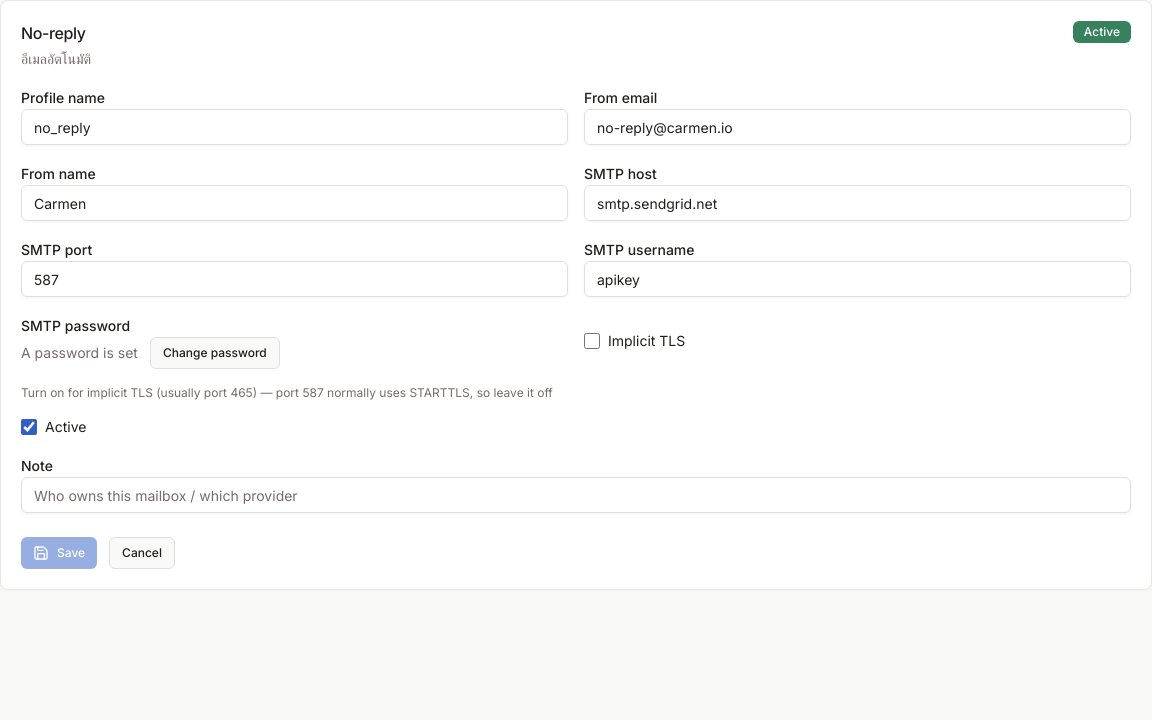
EmailSettingCard › blocks saving when the SMTP port is out of range
This screenshot has width=1152, height=720.
Replace the text in the field labelled "SMTP port" with "99999" at (294, 279), box left=21, top=261, right=568, bottom=297
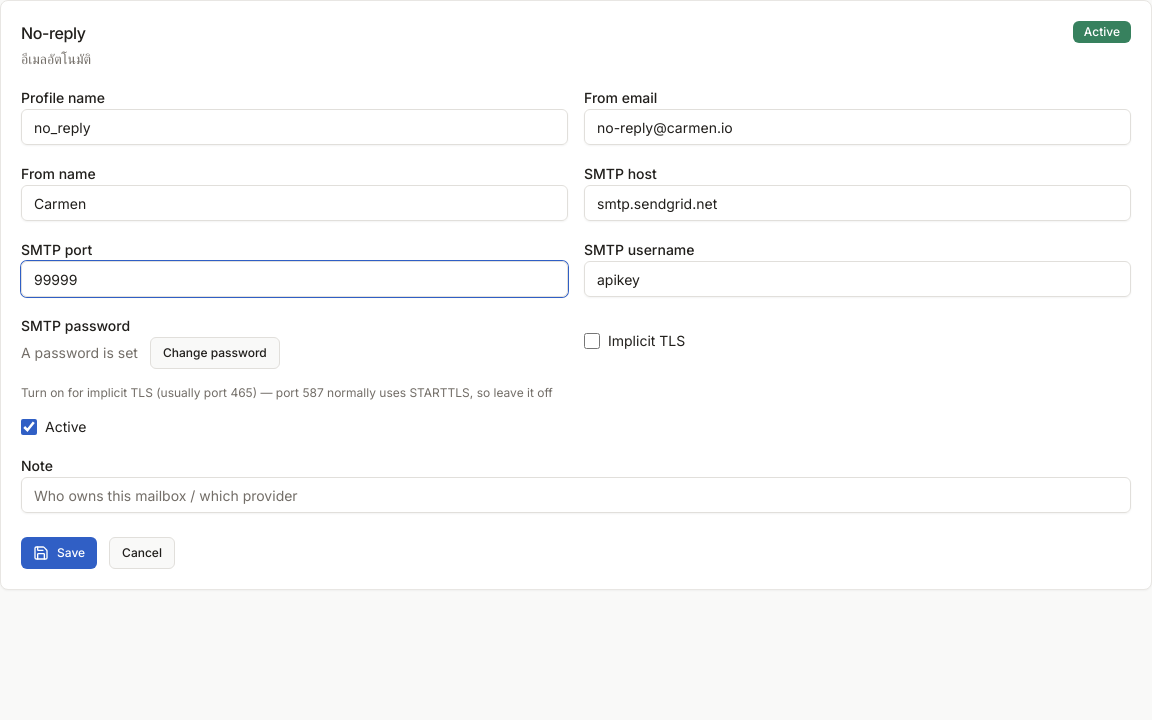
Click the button "Save" at (59, 553), box left=21, top=537, right=97, bottom=569
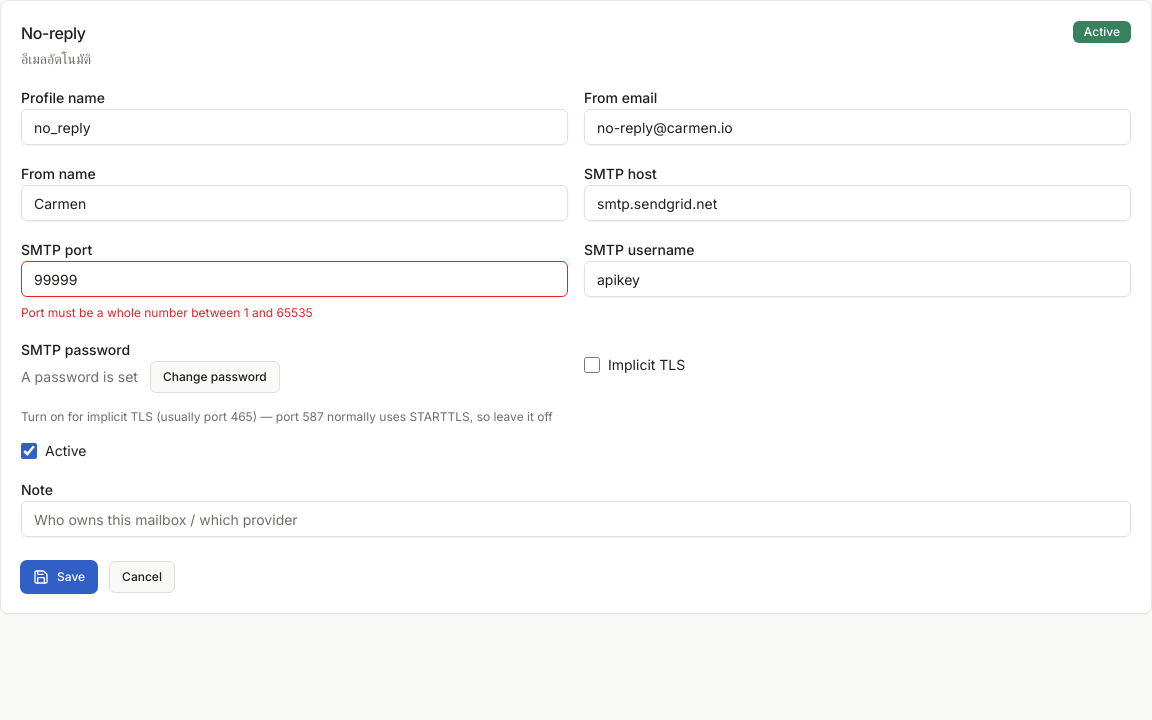
Result: the text "Port must be a whole number between 1 and 65535" is shown at left=21, top=305, right=313, bottom=320
